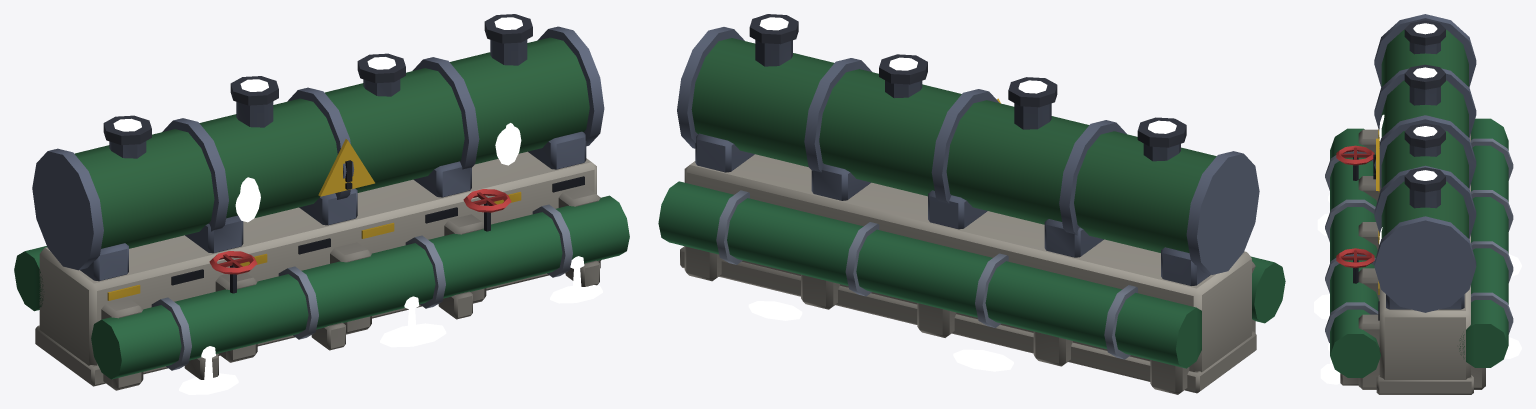
The model's file is x_barrier_sumpf.glb.
3 views of the same model, side by side, from view 1: azimuth 30°, elevation 25°; view 2: azimuth 150°, elevation 25°; view 3: azimuth 270°, elevation 25° (orthographic). The views are drawn at different scales.
Parts seen in each view (by area): view 1: body, ooze_glow; view 2: body, ooze_glow; view 3: body, ooze_glow.
Boxes of the visible parts, left/top/right/bottom form: body: left=14, top=14, right=629, bottom=390; ooze_glow: left=113, top=17, right=602, bottom=394; body: left=658, top=14, right=1285, bottom=394; ooze_glow: left=748, top=17, right=1176, bottom=371; body: left=1325, top=14, right=1513, bottom=394; ooze_glow: left=1314, top=23, right=1521, bottom=384.
Bounding box in the file's own units: 8.04 × 3.54 × 3.42.
